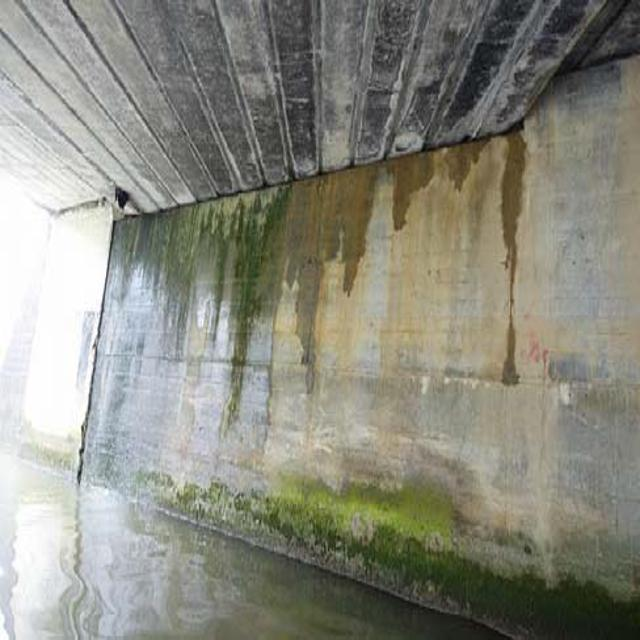leakage: (112, 127, 537, 513)
